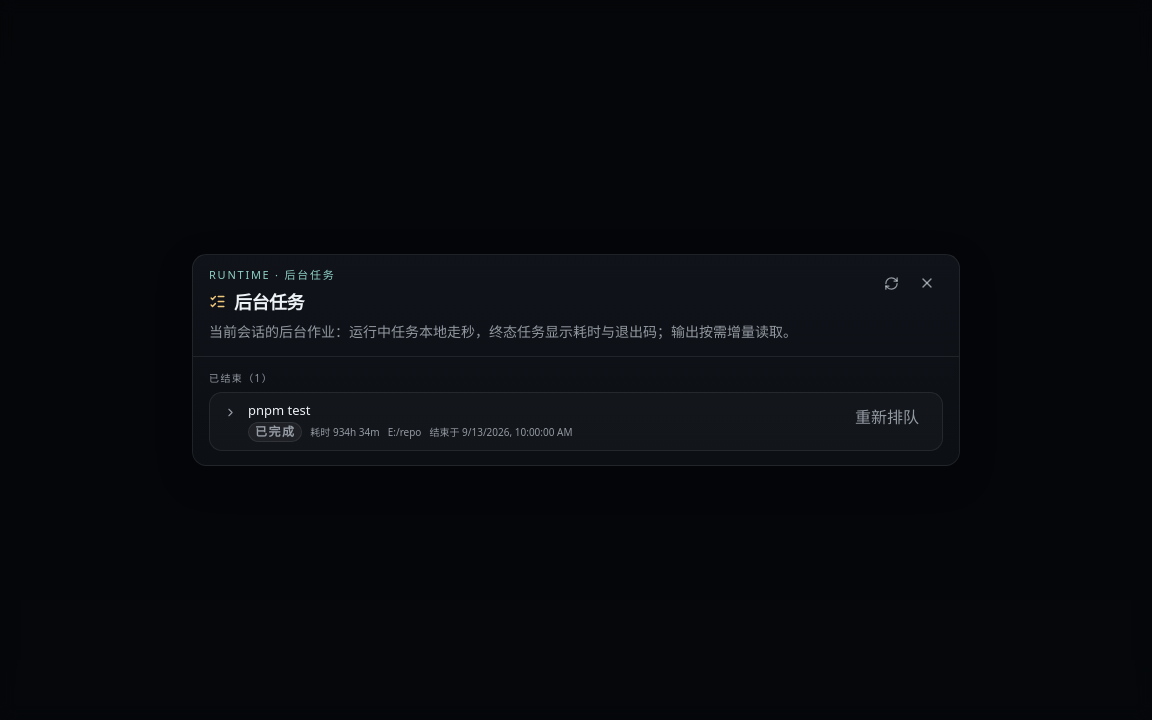
Scenario: JobsPanel › 输出可增量加载更多
Click the button named "查看 pnpm test 的输出" at (230, 412), box [220,402,240,422]
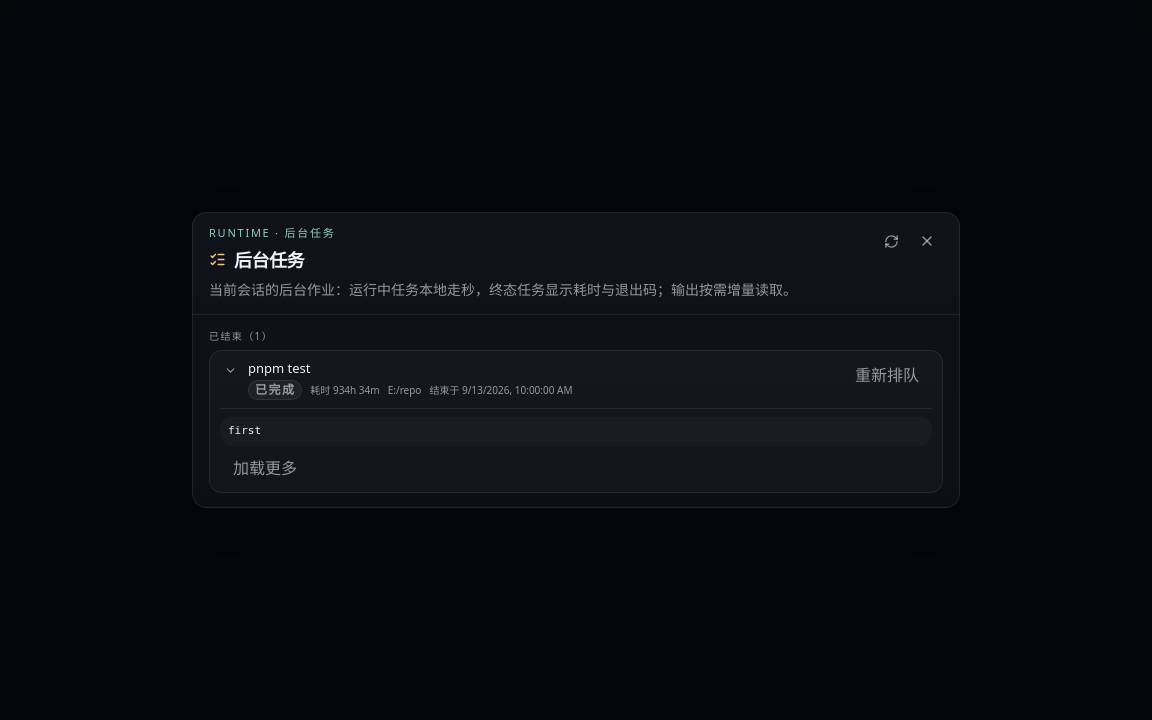
Check: the button "加载更多" is shown
Click the button "加载更多" at (265, 468), box [220,452,310,484]
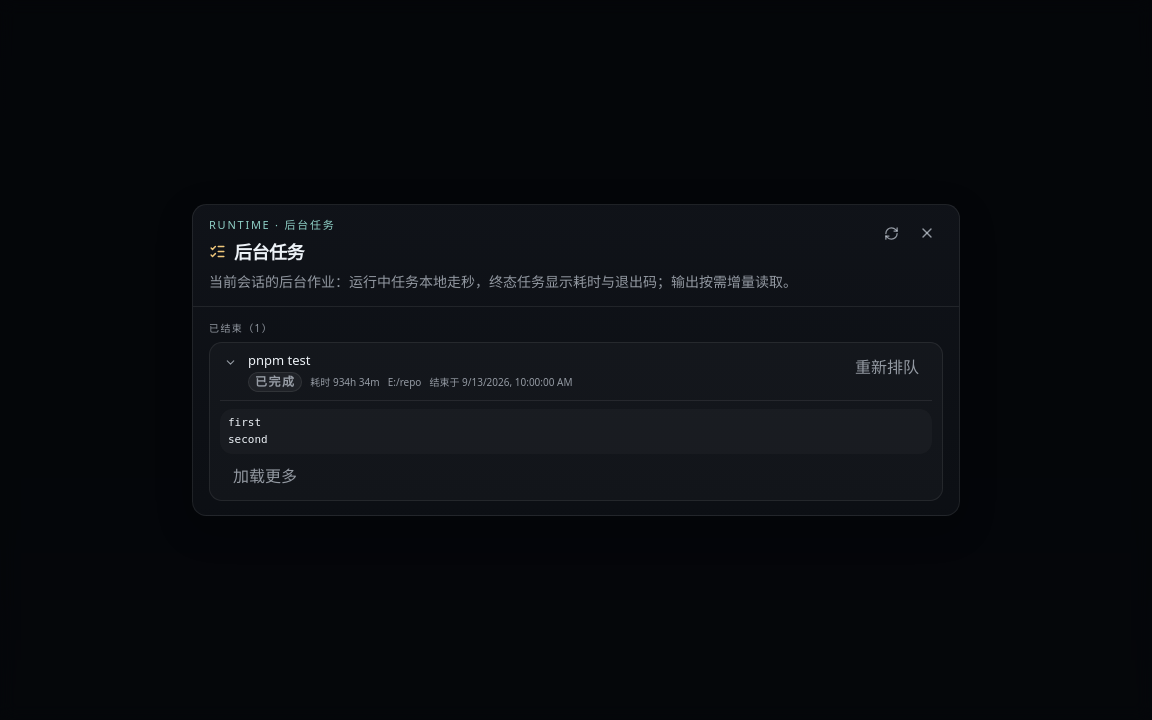
Check: the text "first" is shown, box [228,416,268,446]
Check: the text "second" is shown, box [228,416,268,446]
